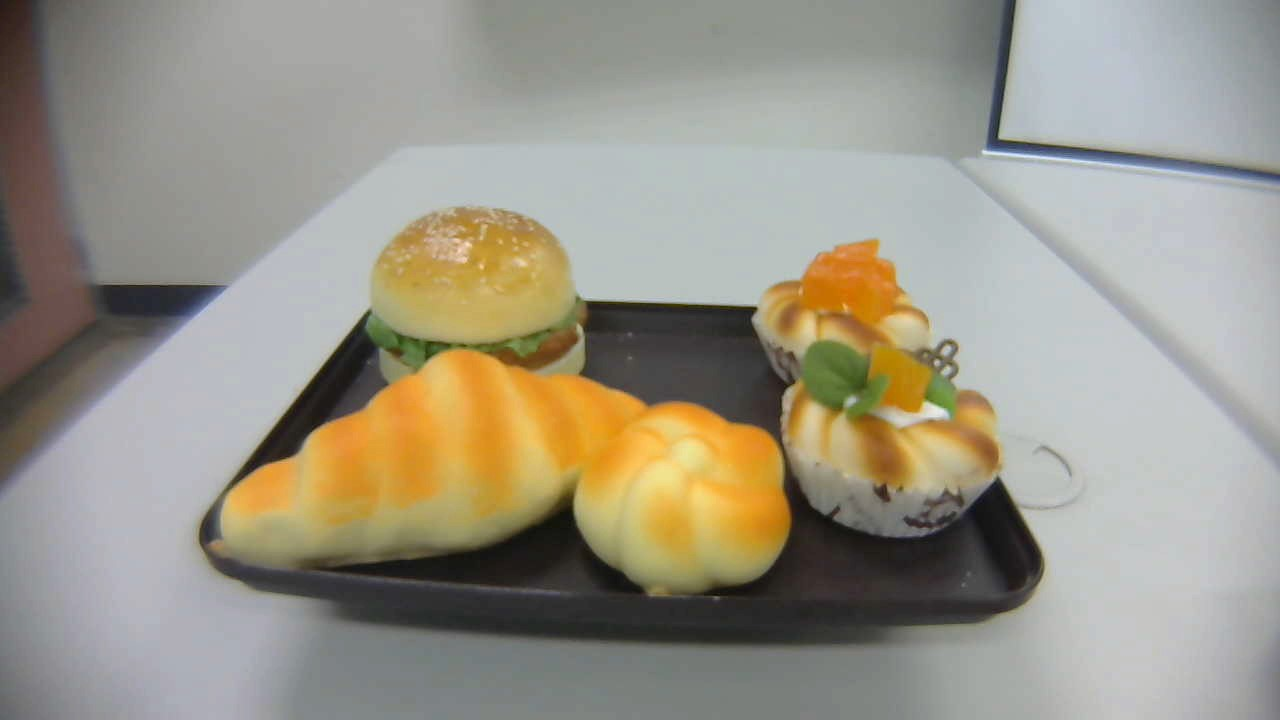croissant: (208, 350, 652, 571)
fruit tart: (779, 338, 1003, 541)
hamburger: (367, 203, 589, 395)
mango tart: (751, 237, 932, 395)
twist bread: (574, 401, 791, 601)
